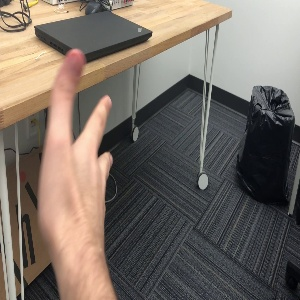hand: (38, 50, 113, 249)
